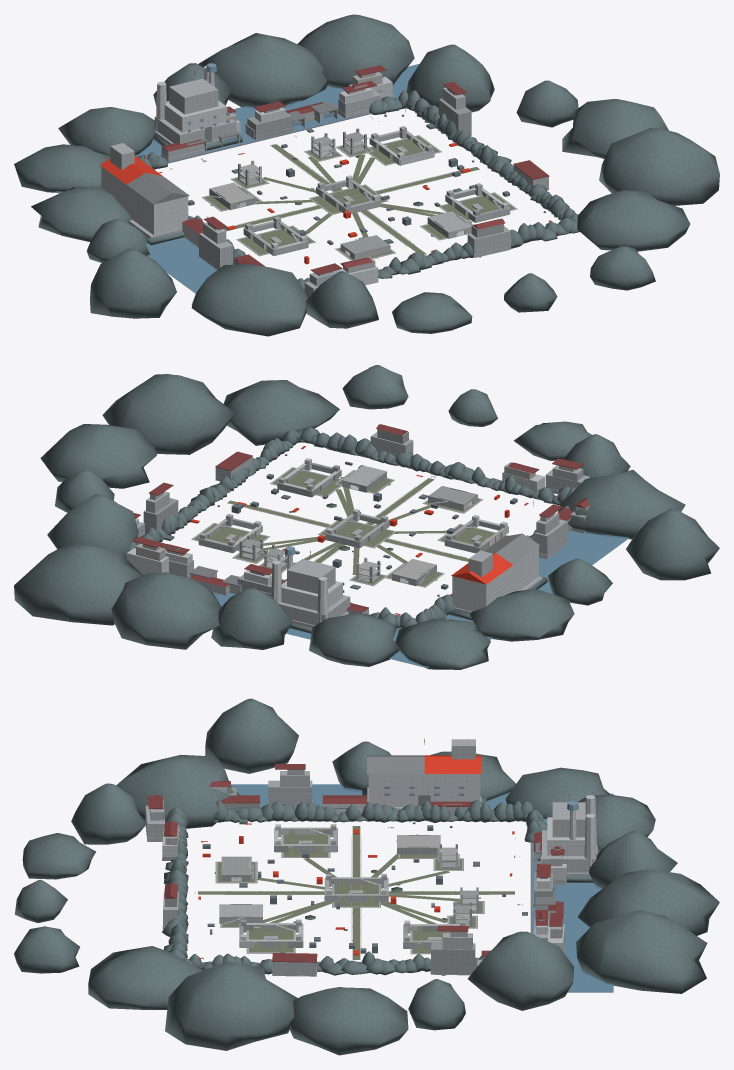
Rendered from misaki-lod1.glb.
The picture shows the model from 3 angles, top to bottom: view 1: azimuth 30°, elevation 25°; view 2: azimuth 150°, elevation 25°; view 3: azimuth 270°, elevation 25°; orthographic projection. The views are drawn at different scales.
Visible parts, largest first — view 1: HB_misaki_LOD1_terrain, HB_misaki_LOD1_road, HB_misaki_LOD1_wall_alt, HB_misaki_LOD1_wall_cool, HB_misaki_LOD1_water, HB_misaki_LOD1_wall_weathered, HB_misaki_LOD1_wall_warm, HB_misaki_LOD1_wall, HB_misaki_LOD1_roof, HB_misaki_LOD1_LANDMARK_0_wall_alt, HB_misaki_LOD1_LANDMARK_1_wall, HB_misaki_LOD1_LANDMARK_0_wall (+5 smaller); view 2: HB_misaki_LOD1_terrain, HB_misaki_LOD1_road, HB_misaki_LOD1_wall_cool, HB_misaki_LOD1_wall_alt, HB_misaki_LOD1_wall_weathered, HB_misaki_LOD1_wall, HB_misaki_LOD1_wall_warm, HB_misaki_LOD1_water, HB_misaki_LOD1_roof, HB_misaki_LOD1_LANDMARK_1_wall, HB_misaki_LOD1_LANDMARK_0_wall_alt, HB_misaki_LOD1_LANDMARK_0_wall (+5 smaller); view 3: HB_misaki_LOD1_terrain, HB_misaki_LOD1_road, HB_misaki_LOD1_wall_alt, HB_misaki_LOD1_wall_weathered, HB_misaki_LOD1_water, HB_misaki_LOD1_roof, HB_misaki_LOD1_wall_cool, HB_misaki_LOD1_wall_warm, HB_misaki_LOD1_LANDMARK_1_wall, HB_misaki_LOD1_wall, HB_misaki_LOD1_LANDMARK_0_wall_alt, HB_misaki_LOD1_LANDMARK_0_wall (+5 smaller).
Part boxes in pixels (bbox=[...]): HB_misaki_LOD1_terrain: bbox=[14, 14, 719, 336]; HB_misaki_LOD1_road: bbox=[201, 136, 517, 260]; HB_misaki_LOD1_wall_alt: bbox=[161, 84, 549, 285]; HB_misaki_LOD1_wall_cool: bbox=[161, 90, 548, 297]; HB_misaki_LOD1_water: bbox=[56, 64, 419, 293]; HB_misaki_LOD1_wall_weathered: bbox=[209, 96, 506, 264]; HB_misaki_LOD1_wall_warm: bbox=[209, 72, 548, 273]; HB_misaki_LOD1_wall: bbox=[182, 76, 510, 284]; HB_misaki_LOD1_roof: bbox=[161, 65, 549, 275]; HB_misaki_LOD1_LANDMARK_0_wall_alt: bbox=[154, 78, 236, 144]; HB_misaki_LOD1_LANDMARK_1_wall: bbox=[101, 166, 188, 235]; HB_misaki_LOD1_LANDMARK_0_wall: bbox=[156, 65, 227, 132]; HB_misaki_LOD1_terrain: bbox=[14, 365, 719, 669]; HB_misaki_LOD1_road: bbox=[191, 467, 506, 587]; HB_misaki_LOD1_wall_cool: bbox=[137, 432, 589, 614]; HB_misaki_LOD1_wall_alt: bbox=[146, 465, 585, 614]; HB_misaki_LOD1_wall_weathered: bbox=[139, 429, 586, 593]; HB_misaki_LOD1_wall: bbox=[126, 458, 589, 584]; HB_misaki_LOD1_wall_warm: bbox=[136, 462, 535, 594]; HB_misaki_LOD1_water: bbox=[189, 531, 629, 668]; HB_misaki_LOD1_roof: bbox=[132, 424, 590, 612]; HB_misaki_LOD1_LANDMARK_1_wall: bbox=[452, 546, 538, 611]; HB_misaki_LOD1_LANDMARK_0_wall_alt: bbox=[278, 559, 350, 627]; HB_misaki_LOD1_LANDMARK_0_wall: bbox=[271, 555, 342, 622]; HB_misaki_LOD1_terrain: bbox=[14, 698, 719, 1055]; HB_misaki_LOD1_road: bbox=[198, 826, 514, 959]; HB_misaki_LOD1_wall_alt: bbox=[145, 769, 566, 976]; HB_misaki_LOD1_wall_weathered: bbox=[162, 787, 553, 974]; HB_misaki_LOD1_water: bbox=[231, 784, 613, 992]; HB_misaki_LOD1_roof: bbox=[147, 764, 564, 962]; HB_misaki_LOD1_wall_cool: bbox=[145, 780, 549, 975]; HB_misaki_LOD1_wall_warm: bbox=[165, 824, 566, 975]; HB_misaki_LOD1_LANDMARK_1_wall: bbox=[368, 774, 480, 806]; HB_misaki_LOD1_wall: bbox=[162, 787, 566, 957]; HB_misaki_LOD1_LANDMARK_0_wall_alt: bbox=[540, 802, 597, 876]; HB_misaki_LOD1_LANDMARK_0_wall: bbox=[547, 795, 596, 872].
Size of the model in its own units: 654 by 71.54 by 612.
14 materials, 12 textured.
